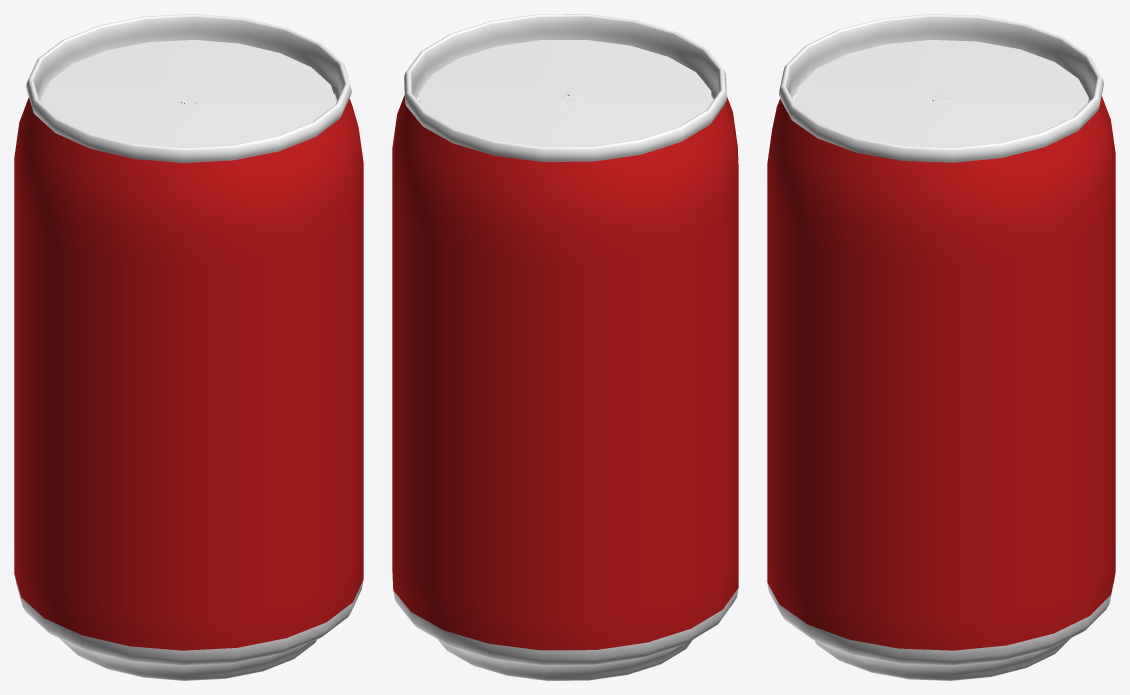
The model's file is 可口可乐_01.FBX.
3 views of the same model, side by side, from view 1: azimuth 30°, elevation 25°; view 2: azimuth 150°, elevation 25°; view 3: azimuth 270°, elevation 25° (orthographic).
Parts seen in each view (by area): view 1: 3dxy; view 2: 3dxy; view 3: 3dxy.
Boxes of the visible parts, x1,y1,x2,y2 form: 3dxy: (14, 14, 363, 680); 3dxy: (392, 14, 738, 680); 3dxy: (767, 14, 1115, 680).
Bounding box in the file's own units: 165 × 284 × 165.
